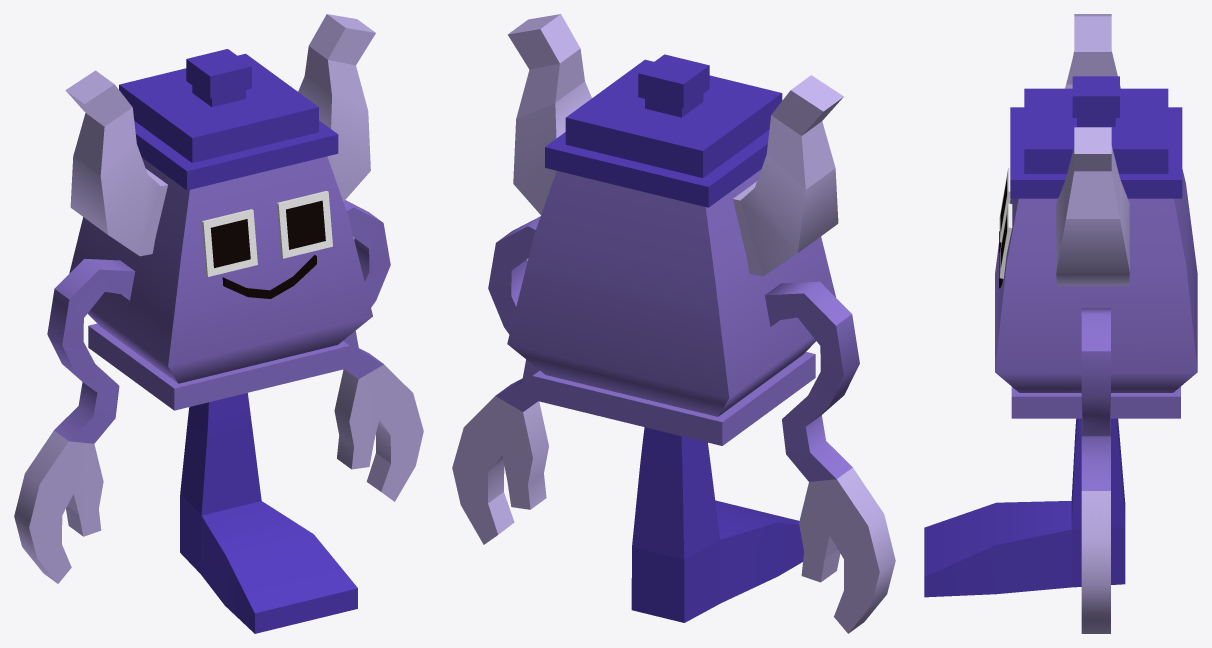
File: Ta_Ta_Ta_Ta_Sahur.fbx
The picture shows the model from 3 angles, left to right: view 1: azimuth 30°, elevation 25°; view 2: azimuth 150°, elevation 25°; view 3: azimuth 270°, elevation 25°; orthographic projection. The views are drawn at different scales.
Visible parts, largest first — view 1: Ta_Ta_Ta_Ta_Sahur.005; view 2: Ta_Ta_Ta_Ta_Sahur.005; view 3: Ta_Ta_Ta_Ta_Sahur.005.
Part boxes in pixels (left/top/right/bottom): Ta_Ta_Ta_Ta_Sahur.005: left=14, top=14, right=423, bottom=633; Ta_Ta_Ta_Ta_Sahur.005: left=452, top=14, right=895, bottom=633; Ta_Ta_Ta_Ta_Sahur.005: left=924, top=14, right=1197, bottom=633.
Size of the model in its own units: 1.05 by 1.29 by 0.637.
